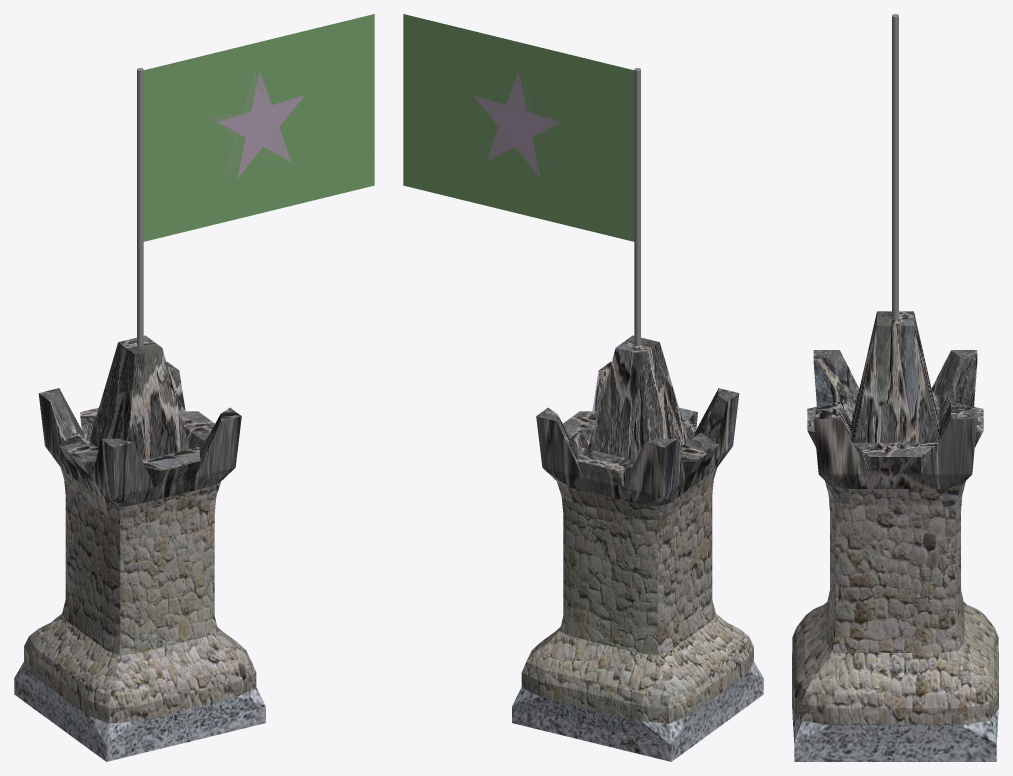
Rendered from NeutralTower.FBX.
3 views of the same model, side by side, from view 1: azimuth 30°, elevation 25°; view 2: azimuth 150°, elevation 25°; view 3: azimuth 270°, elevation 25° (orthographic). The views are drawn at different scales.
Parts seen in each view (by area): view 1: Box001, Box002, Cylinder001; view 2: Box001, Box002, Cylinder001; view 3: Box001, Cylinder001.
Part boxes in pixels (box(x1,y1,x2,y2)): Box001: box(14, 335, 265, 761); Box002: box(143, 14, 374, 241); Cylinder001: box(137, 68, 143, 346); Box001: box(512, 335, 763, 761); Box002: box(403, 14, 634, 241); Cylinder001: box(634, 68, 640, 346); Box001: box(792, 311, 998, 761); Cylinder001: box(892, 14, 898, 320).
Bounding box in the file's own units: 13.47 × 26.09 × 6.94.
Materials: 3 (2 with a texture image).
